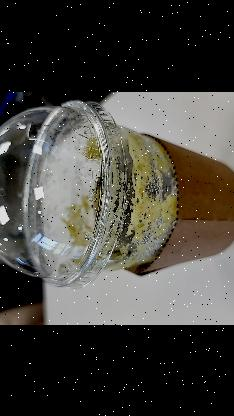Others: (0, 97, 234, 289), (0, 100, 127, 289)
